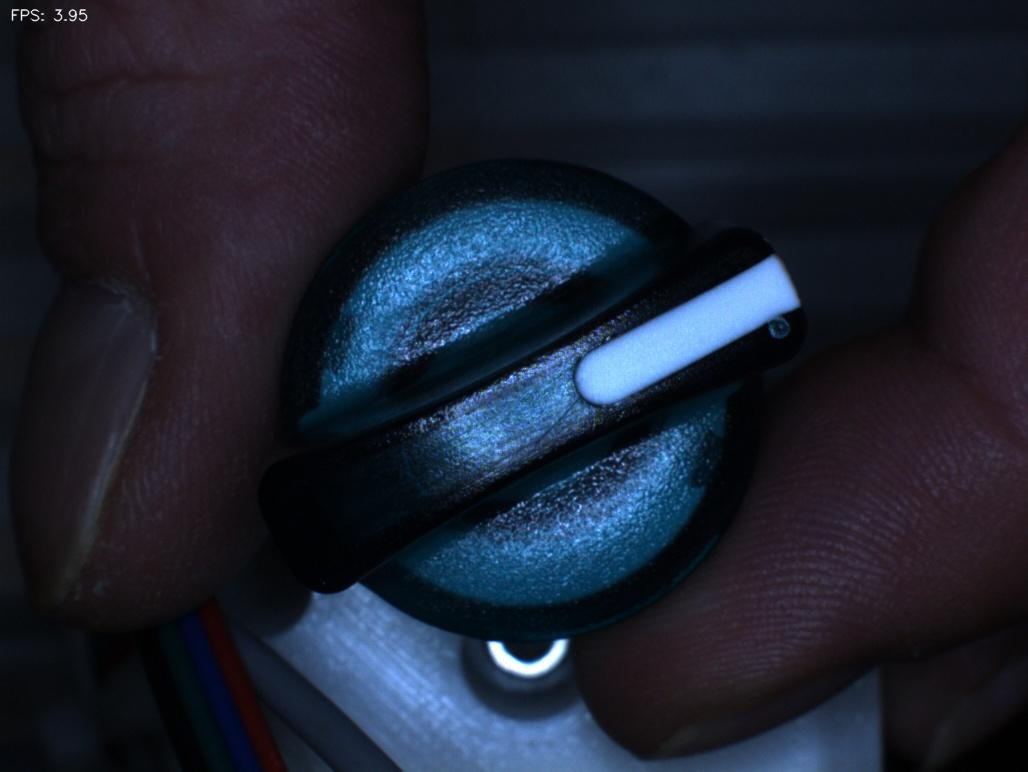Choc: (750, 289, 820, 377)
